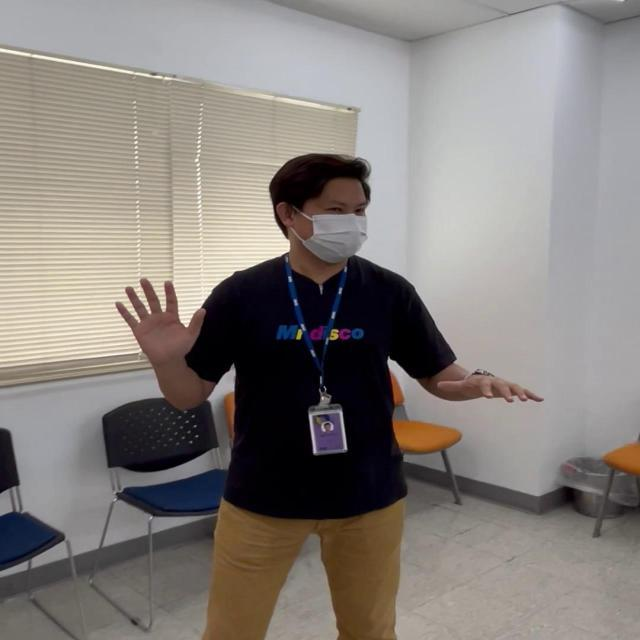bare_hand: (115, 274, 205, 362), (438, 364, 543, 409)
